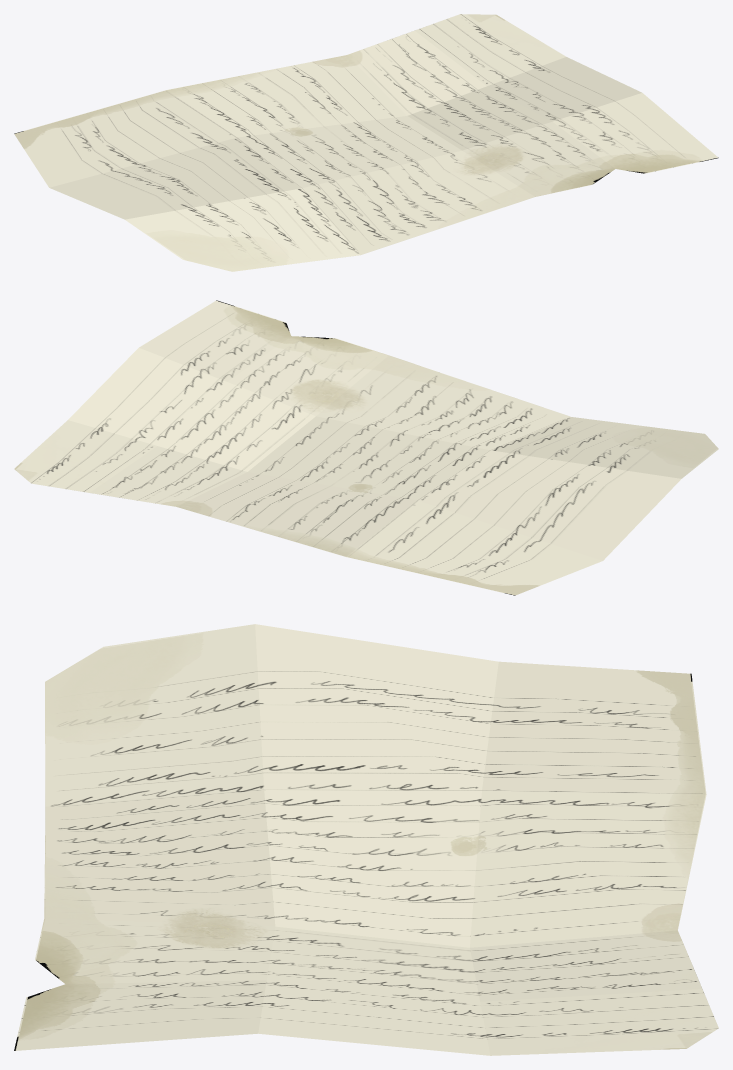
Rendered from letter_01.fbx.
The picture shows the model from 3 angles, top to bottom: view 1: azimuth 30°, elevation 25°; view 2: azimuth 150°, elevation 25°; view 3: azimuth 270°, elevation 25°; orthographic projection. The views are drawn at different scales.
Parts seen in each view (by area): view 1: Plane; view 2: Plane; view 3: Plane.
Boxes of the visible parts, x1=… form: Plane: x1=14, y1=14, x2=718, y2=271; Plane: x1=14, y1=300, x2=718, y2=595; Plane: x1=14, y1=624, x2=718, y2=1055.
Size of the model in its own units: 0.5224 by 0.0288 by 0.3796.
Materials: 1 (1 with a texture image).
